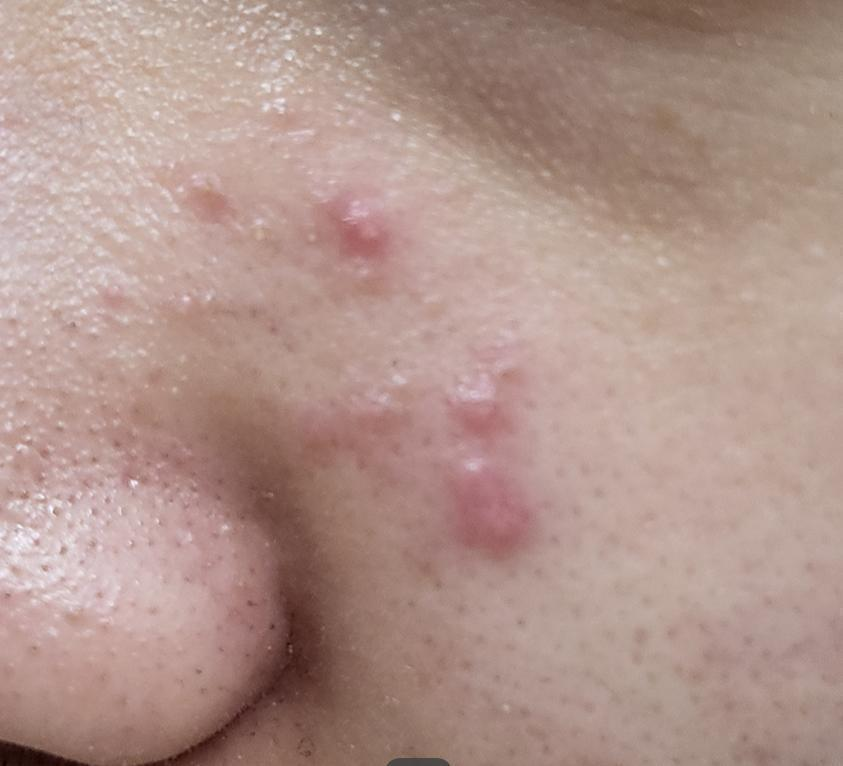blackhead: (24, 579, 133, 655), (7, 442, 107, 509), (172, 469, 266, 538), (88, 443, 184, 509), (103, 504, 195, 569), (25, 520, 109, 584), (228, 581, 295, 651)
papular: (305, 401, 385, 484), (447, 363, 534, 439), (446, 458, 502, 559), (172, 157, 247, 228), (330, 197, 398, 255)
whitehead: (179, 284, 240, 326), (256, 128, 319, 168), (343, 260, 396, 307), (389, 357, 432, 404), (251, 208, 275, 259), (301, 226, 326, 262)
